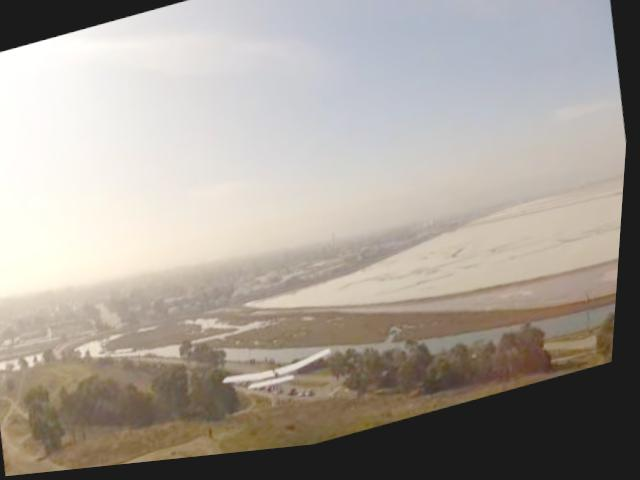uav: (213, 337, 349, 425)
